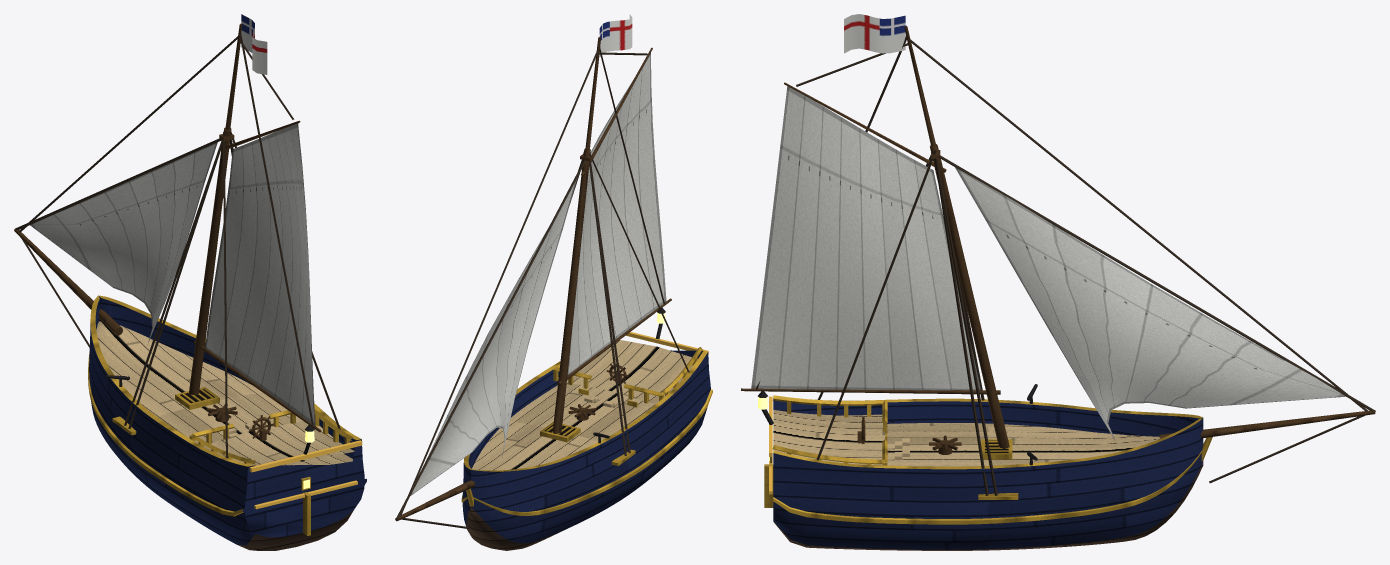
The model's file is navy_cutter.glb.
The picture shows the model from 3 angles, left to right: view 1: azimuth 30°, elevation 25°; view 2: azimuth 150°, elevation 25°; view 3: azimuth 270°, elevation 25°; orthographic projection. The views are drawn at different scales.
Visible parts, largest first — view 1: Hull, Sail0_0, Jib, Rigging, Flag; view 2: Hull, Sail0_0, Jib, Rigging, Flag; view 3: Hull, Sail0_0, Jib, Rigging, Flag.
Part boxes in pixels (left/top/right/bottom): Hull: left=88, top=295, right=366, bottom=550; Sail0_0: left=205, top=123, right=315, bottom=425; Jib: left=30, top=142, right=217, bottom=342; Rigging: left=14, top=23, right=340, bottom=457; Flag: left=241, top=14, right=267, bottom=74; Hull: left=461, top=307, right=712, bottom=550; Sail0_0: left=567, top=53, right=666, bottom=375; Jib: left=410, top=178, right=577, bottom=495; Rigging: left=395, top=37, right=689, bottom=528; Flag: left=599, top=14, right=632, bottom=57; Hull: left=758, top=391, right=1212, bottom=550; Sail0_0: left=751, top=86, right=980, bottom=390; Jib: left=955, top=167, right=1345, bottom=441; Rigging: left=741, top=25, right=1375, bottom=495; Flag: left=844, top=14, right=905, bottom=53.
Size of the model in its own units: 0.6002 by 1.89 by 2.1.
Materials: 14 (8 with a texture image).
